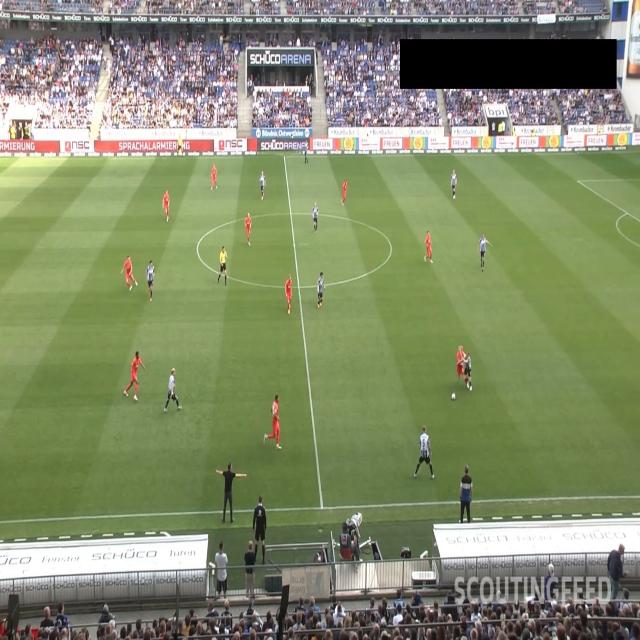ball: (451, 391, 456, 401)
